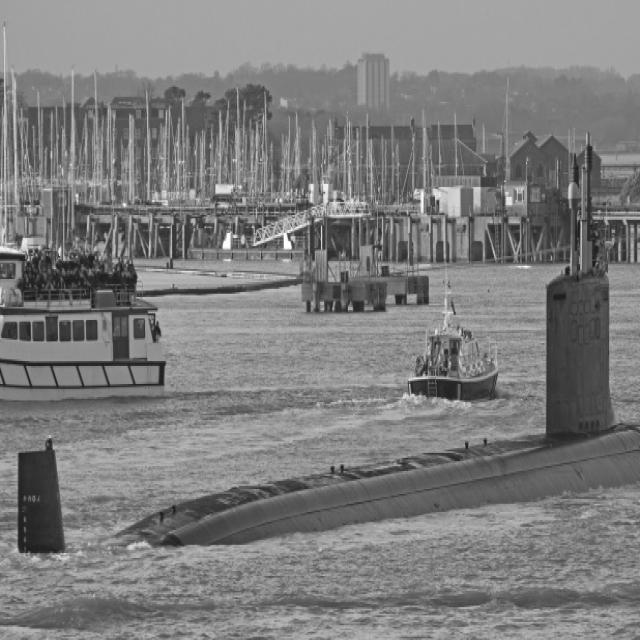submarine: (14, 264, 640, 562)
